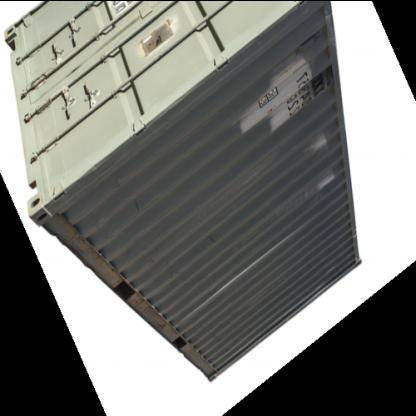Damage: (58, 218, 126, 278), (122, 295, 176, 333)
